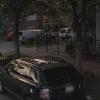Car: (2, 47, 87, 100)
